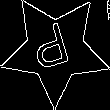P_S: (31, 20, 79, 79)
